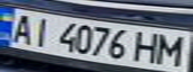0: (72, 22, 93, 55)
4: (51, 20, 78, 53)
6: (109, 26, 133, 61)
7: (90, 25, 112, 58)
A: (6, 11, 39, 44)
H: (130, 29, 163, 64)
I: (27, 16, 57, 47)
M: (154, 32, 190, 66)
